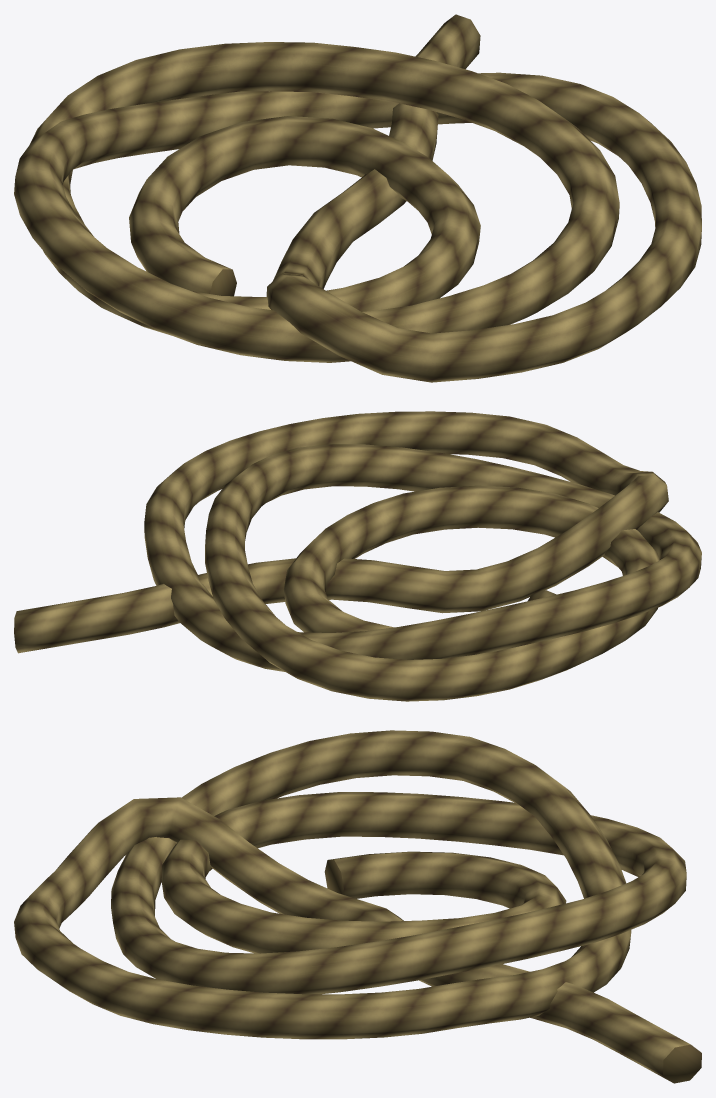
Rendered from Rope_Coiled.fbx.
3 views of the same model, one above another, from view 1: azimuth 30°, elevation 25°; view 2: azimuth 150°, elevation 25°; view 3: azimuth 270°, elevation 25° (orthographic). The views are drawn at different scales.
Parts seen in each view (by area): view 1: Rope; view 2: Rope; view 3: Rope.
Part boxes in pixels (x1,y1,x2,y2): Rope: (14, 14, 701, 382); Rope: (14, 411, 701, 701); Rope: (14, 730, 701, 1083).
Size of the model in its own units: 104 by 20.45 by 114.
